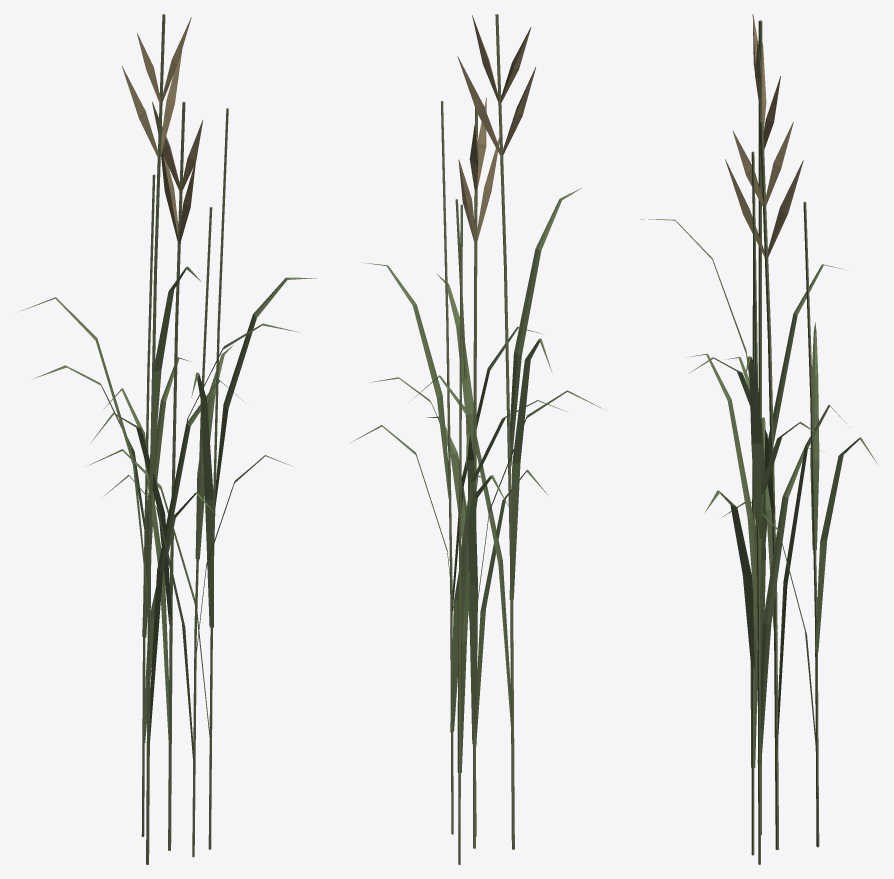
The model's file is river_river_reeds_sparse.glb.
3 renders of one model, left to right at view 1: azimuth 30°, elevation 25°; view 2: azimuth 150°, elevation 25°; view 3: azimuth 270°, elevation 25°, orthographic. The views are drawn at different scales.
Visible parts, largest first — view 1: RiverReedsSparse; view 2: RiverReedsSparse; view 3: RiverReedsSparse.
Boxes of the visible parts, left/top/right/bottom form: RiverReedsSparse: left=21, top=14, right=317, bottom=864; RiverReedsSparse: left=349, top=14, right=606, bottom=864; RiverReedsSparse: left=640, top=14, right=877, bottom=864.
Size of the model in its own units: 0.5 by 1.6 by 0.4279.
1 material, 1 textured.
